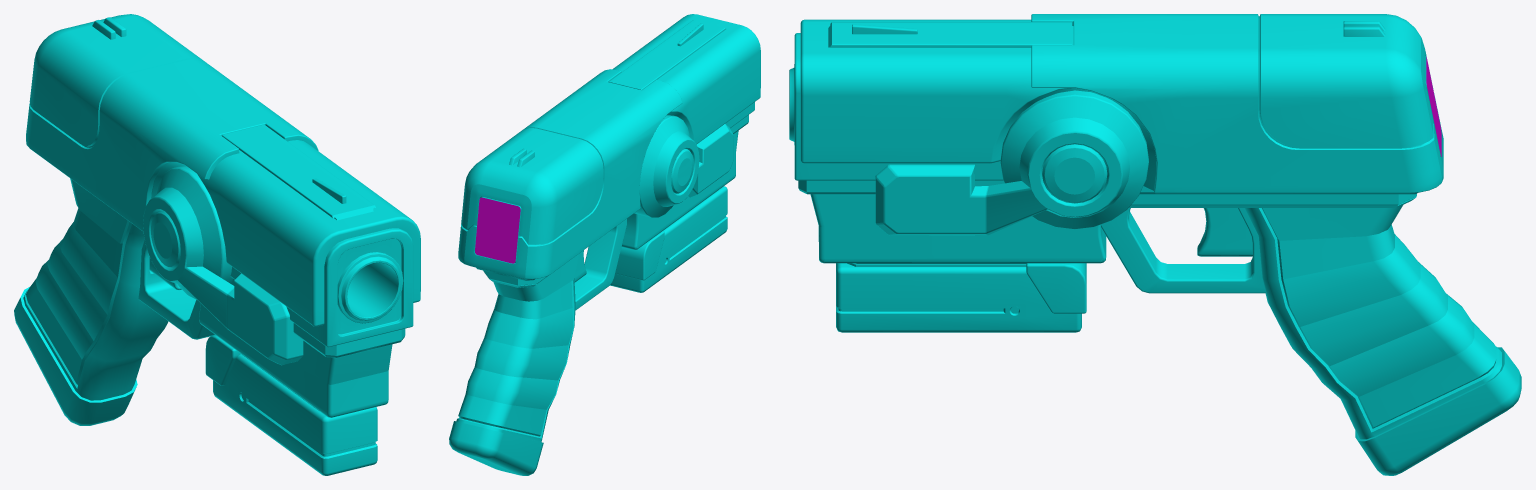
The model's file is Gun_mesh.fbx.
3 renders of one model, left to right at view 1: azimuth 30°, elevation 25°; view 2: azimuth 150°, elevation 25°; view 3: azimuth 270°, elevation 25°, orthographic. The views are drawn at different scales.
Parts seen in each view (by area): view 1: back_slide_low, grip_low, front_slide_low, energy_cylinder_low, bottombox_low, topbox_low, barrel_frame_low, sight_base_low, barrel_low, guard_low, top_frame_low, corner_guard_low (+1 smaller); view 2: back_slide_low, grip_low, front_slide_low, energy_cylinder_low, bottombox_low, sight_base_low, ammocounter_low, guard_low, topbox_low, corner_guard_low, bottom_frame_low; view 3: back_slide_low, grip_low, front_slide_low, energy_cylinder_low, bottombox_low, topbox_low, guard_low, sight_base_low, bottom_frame_low, barrel_frame_low, corner_guard_low, trigger_low (+1 smaller).
Boxes of the visible parts, x1,y1,x2,y2 form: back_slide_low: (26, 14, 318, 231); grip_low: (14, 178, 168, 425); front_slide_low: (151, 140, 420, 326); energy_cylinder_low: (143, 166, 303, 365); bottombox_low: (213, 354, 377, 475); topbox_low: (199, 303, 392, 417); barrel_frame_low: (230, 228, 413, 347); sight_base_low: (222, 124, 375, 220); barrel_low: (337, 252, 403, 323); guard_low: (138, 239, 214, 339); top_frame_low: (231, 278, 405, 357); corner_guard_low: (205, 335, 240, 385); back_slide_low: (458, 69, 682, 279); grip_low: (449, 254, 578, 475); front_slide_low: (613, 14, 760, 144); energy_cylinder_low: (634, 115, 733, 217); bottombox_low: (610, 186, 727, 292); sight_base_low: (608, 20, 725, 90); ammocounter_low: (475, 197, 520, 263); guard_low: (574, 219, 626, 310); topbox_low: (621, 130, 738, 249); corner_guard_low: (615, 231, 664, 280); bottom_frame_low: (483, 270, 549, 287); back_slide_low: (1031, 14, 1443, 193); grip_low: (1245, 205, 1521, 475); front_slide_low: (800, 19, 1156, 190); energy_cylinder_low: (875, 90, 1148, 235); bottombox_low: (836, 263, 1081, 332); topbox_low: (810, 194, 1106, 263); guard_low: (1101, 208, 1265, 293); sight_base_low: (828, 22, 1071, 47); bottom_frame_low: (1129, 193, 1416, 207); barrel_frame_low: (794, 33, 1003, 180); corner_guard_low: (1026, 263, 1086, 313); trigger_low: (1197, 208, 1252, 256).
Size of the model in its own units: 5.1 by 12.48 by 18.7.
